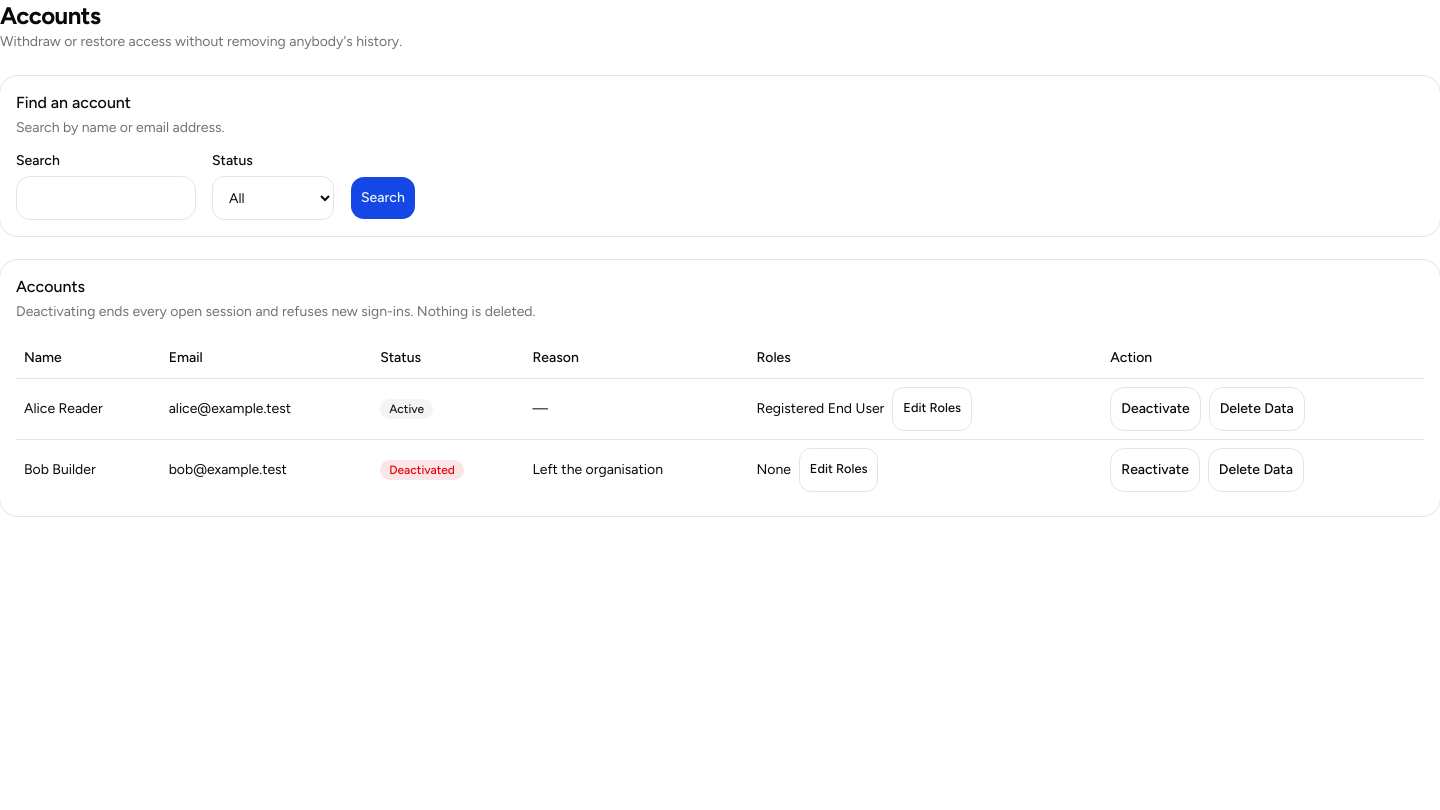
Test case: AccountManagementView › says what a deletion will remove and what it will keep
Click the button "Delete Data" in the row of "Alice Reader": (1257, 408) [1209, 386, 1305, 430]
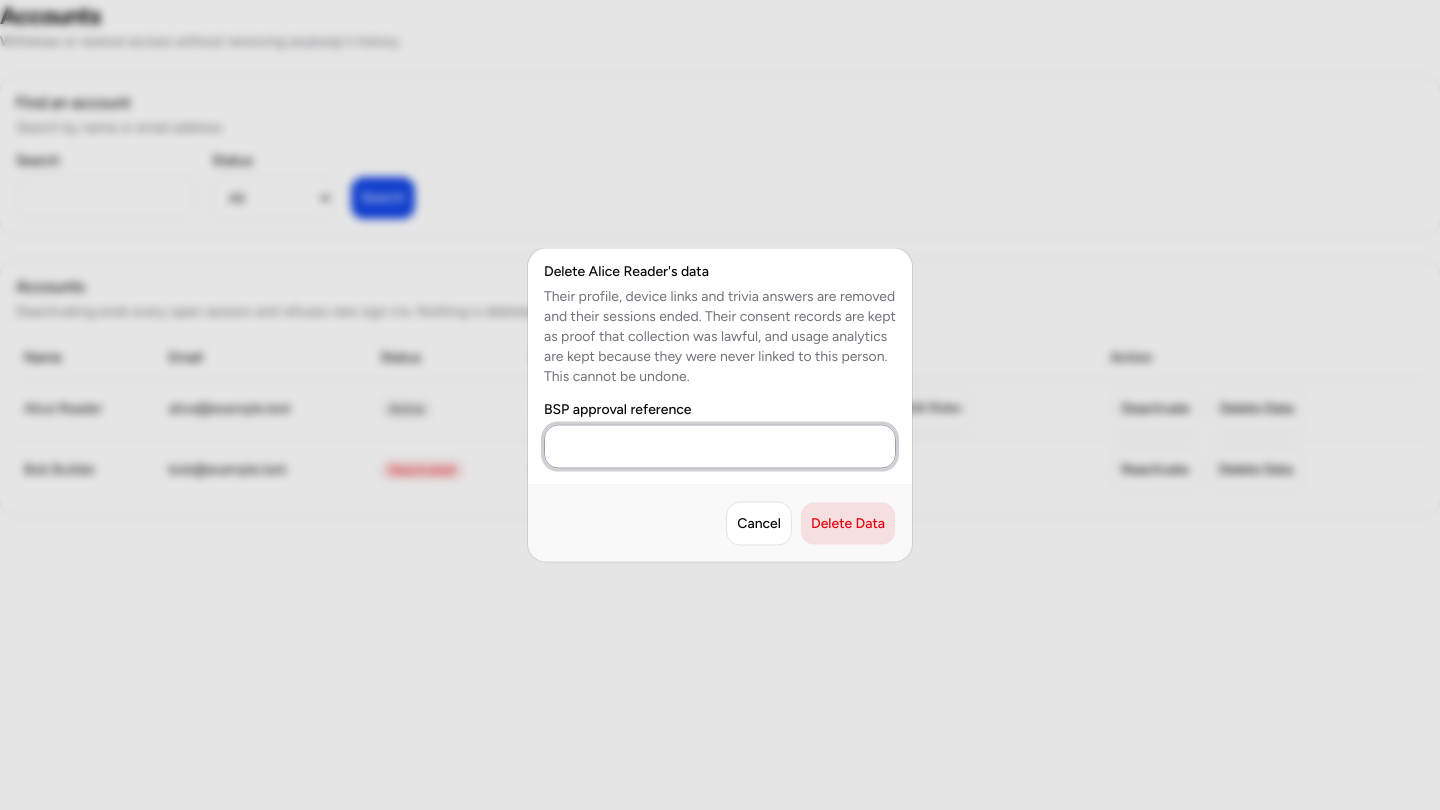
Expected: the text "cannot be undone" is shown, [544, 288, 896, 384]
